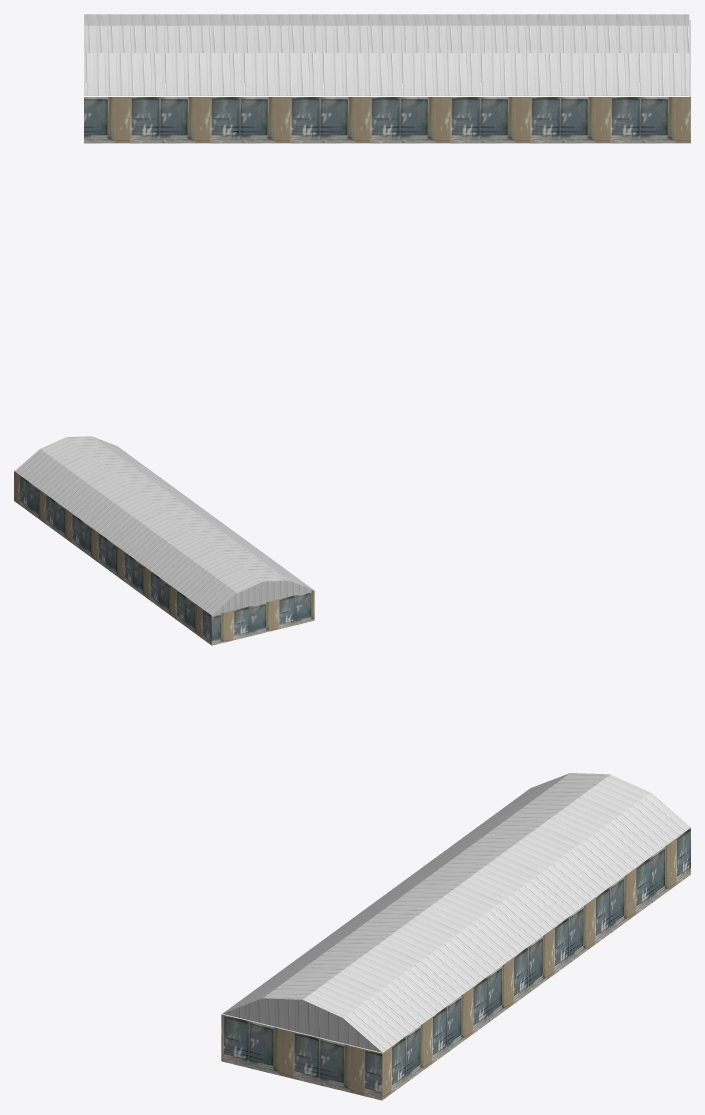
The model's file is Lecu_raceoblic.gltf.
The picture shows the model from 3 angles, top to bottom: view 1: azimuth 30°, elevation 25°; view 2: azimuth 150°, elevation 25°; view 3: azimuth 270°, elevation 25°; orthographic projection. The views are drawn at different scales.
Parts seen in each view (by area): view 1: race_oblicuo; view 2: race_oblicuo; view 3: race_oblicuo.
Part boxes in pixels (<box>): race_oblicuo: <box>84,14,690,143</box>; race_oblicuo: <box>14,436,314,645</box>; race_oblicuo: <box>221,773,690,1100</box>.
Size of the model in its own units: 54.45 by 4.8 by 36.57.
